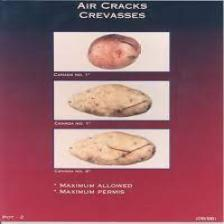Defected potato: (87, 32, 143, 71)
Diseased-fungal potato: (62, 82, 154, 118), (66, 132, 154, 166)
